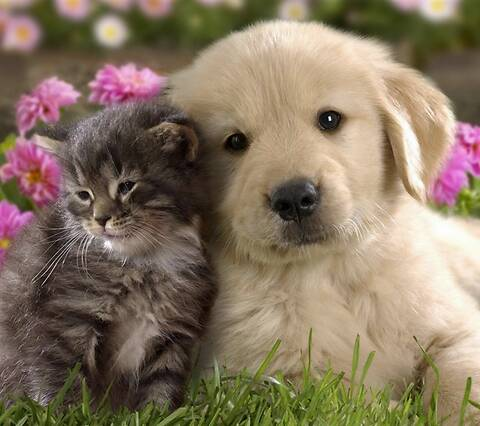cat: (3, 97, 210, 411)
dog: (189, 16, 480, 412)
